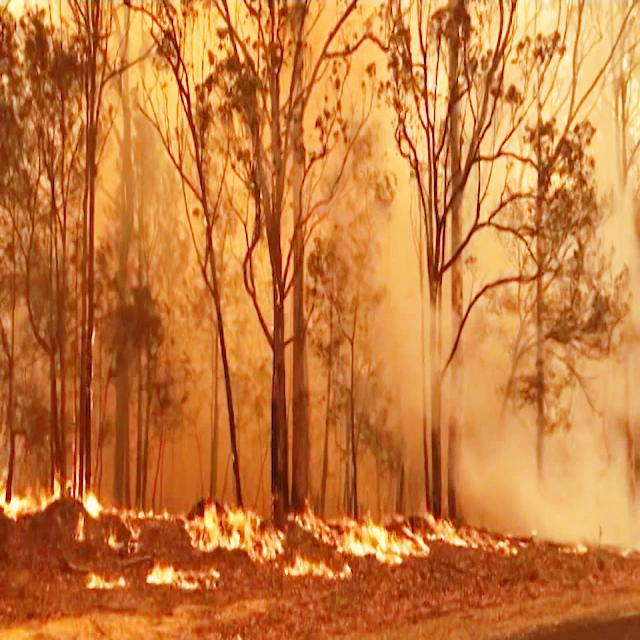api: (292, 494, 439, 574), (184, 494, 292, 568), (423, 504, 525, 561), (144, 551, 225, 599), (85, 487, 176, 529), (2, 468, 63, 528), (287, 553, 362, 589), (78, 567, 129, 595), (554, 540, 597, 560)
asap: (365, 269, 640, 556)
